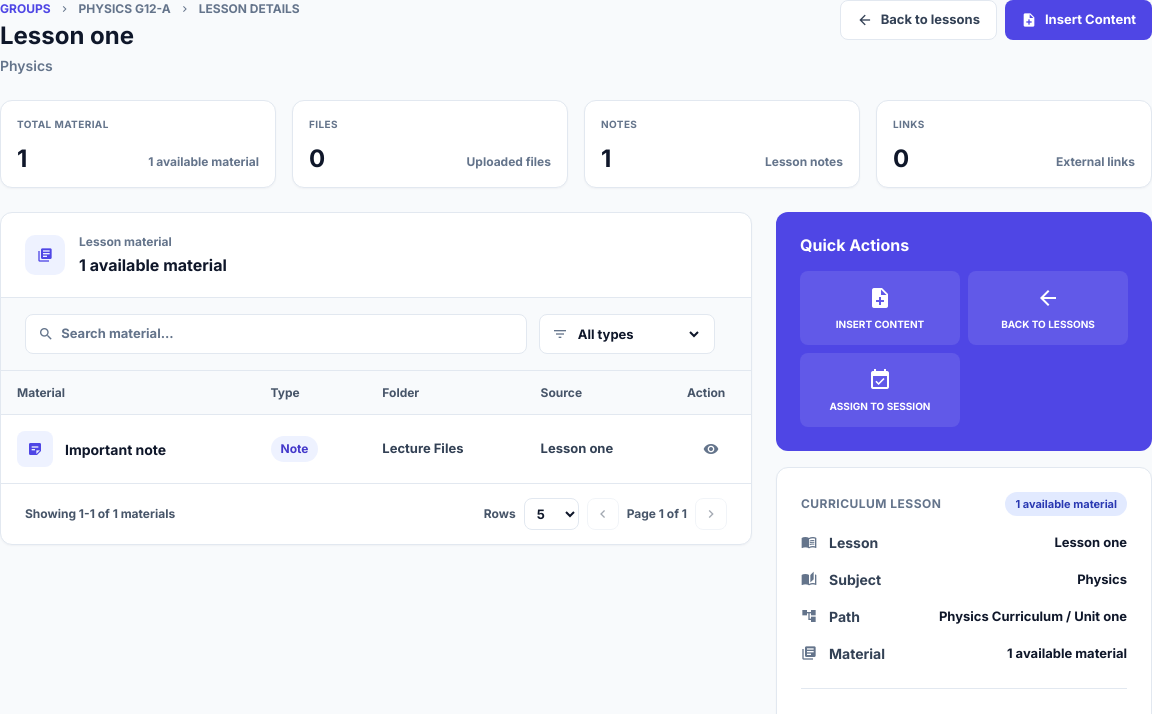
Scenario: TenantGroupLessonDetailsComponent › loads and previews inserted note content on the same lesson page
Click the button with class "tenant-group-lesson-content-table-row" at (35, 449), box [1, 415, 751, 483]
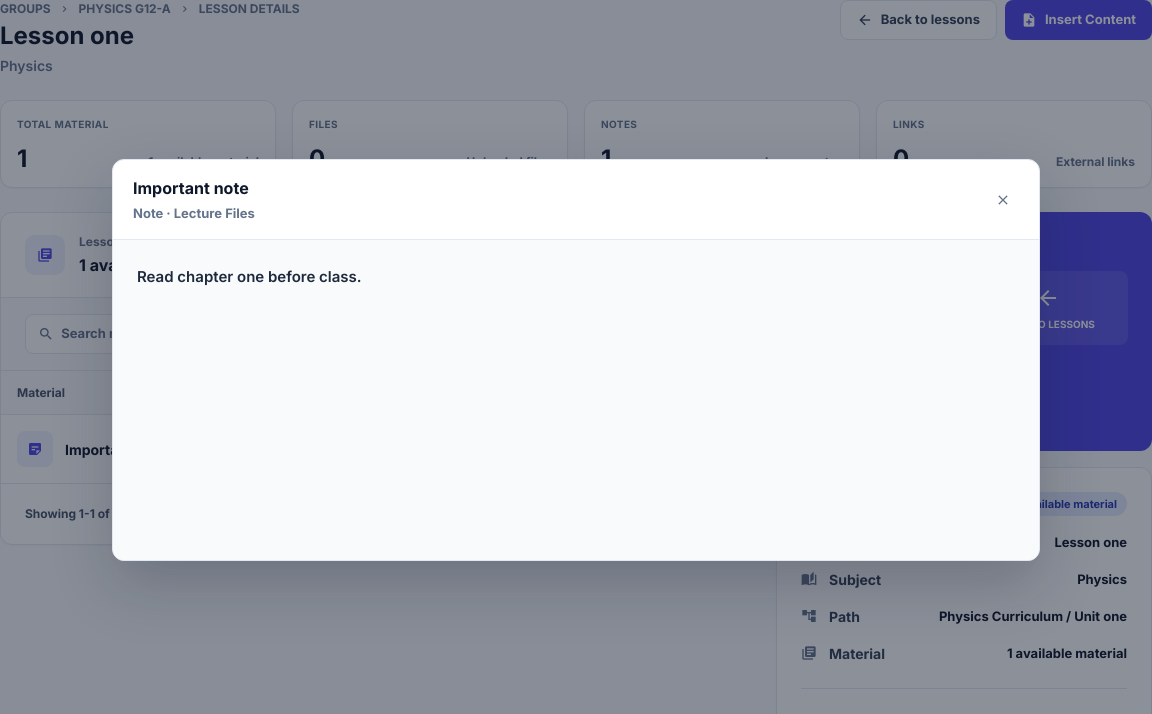
Check: the text "Read chapter one before class." is shown, box [137, 267, 362, 286]
